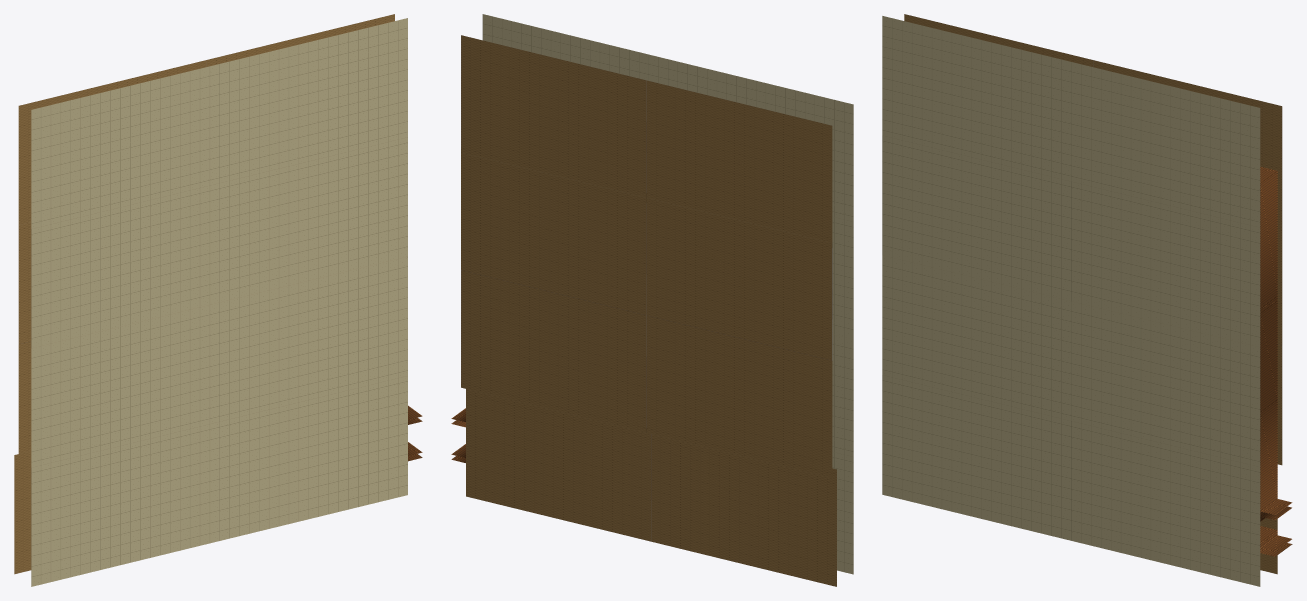
File: warehouse_interior.fbx
3 renders of one model, left to right at view 1: azimuth 30°, elevation 25°; view 2: azimuth 150°, elevation 25°; view 3: azimuth 330°, elevation 25°, orthographic.
Parts seen in each view (by area): view 1: Cube_002; view 2: Cube_002; view 3: Cube_002.
Part boxes in pixels (left/top/right/bottom): Cube_002: left=14, top=14, right=422, bottom=586; Cube_002: left=451, top=14, right=853, bottom=586; Cube_002: left=882, top=14, right=1292, bottom=586.
Bounding box in the file's own units: 79 × 92 × 6.07.
Materials: 1 (1 with a texture image).
